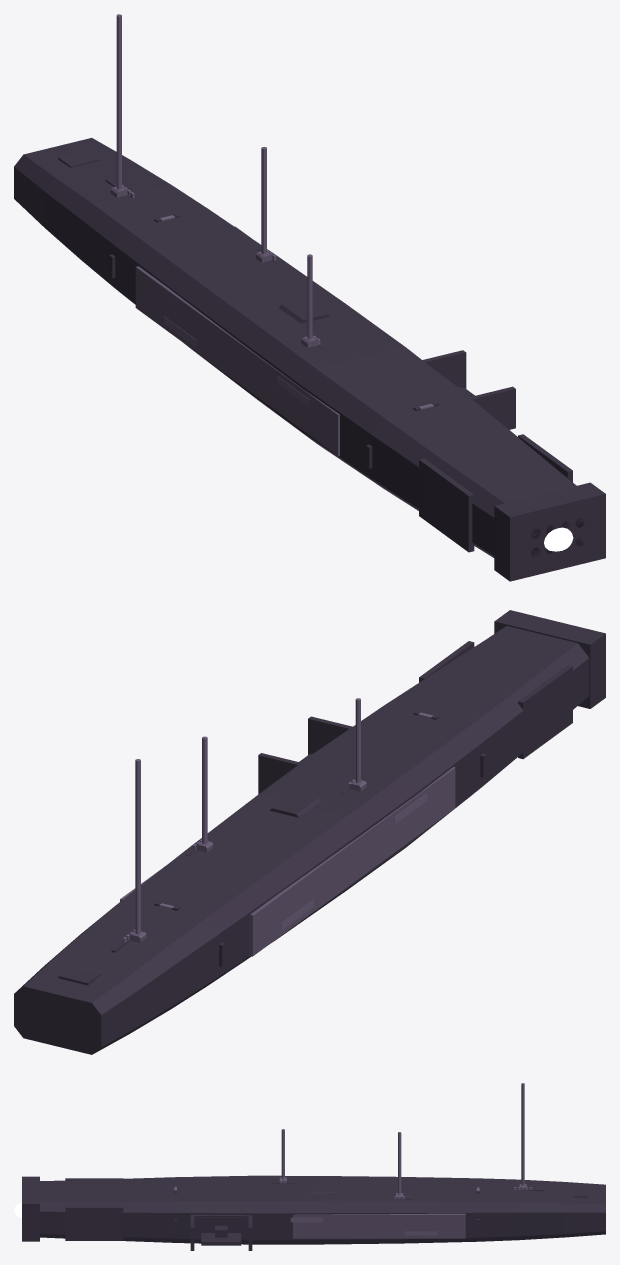
3 renders of one model, top to bottom at view 1: azimuth 30°, elevation 25°; view 2: azimuth 150°, elevation 25°; view 3: azimuth 270°, elevation 25°, orthographic. The views are drawn at different scales.
Parts seen in each view (by area): view 1: RIMWARD_HULL; view 2: RIMWARD_HULL; view 3: RIMWARD_HULL.
Boxes of the visible parts, x1,y1,x2,y2 form: RIMWARD_HULL: (14, 14, 605, 581); RIMWARD_HULL: (14, 610, 605, 1054); RIMWARD_HULL: (22, 1083, 605, 1250).
Size of the model in its own units: 5.98 by 8.83 by 32.58.
